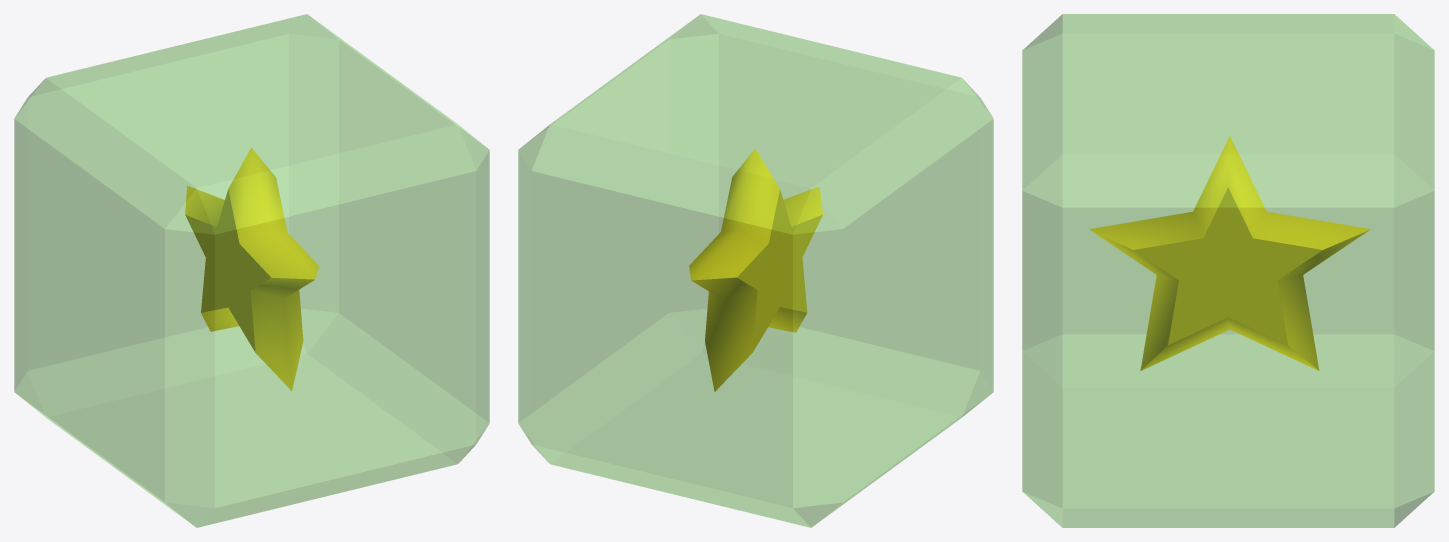
The model's file is haneru (1).fbx.
3 views of the same model, side by side, from view 1: azimuth 30°, elevation 25°; view 2: azimuth 150°, elevation 25°; view 3: azimuth 270°, elevation 25° (orthographic). The views are drawn at different scales.
Visible parts, largest first — view 1: pCube1, pasted__pCube2; view 2: pCube1, pasted__pCube2; view 3: pCube1, pasted__pCube2.
Boxes of the visible parts, bbox=[...] form: pCube1: bbox=[14, 14, 489, 527]; pasted__pCube2: bbox=[185, 148, 318, 390]; pCube1: bbox=[518, 14, 993, 527]; pasted__pCube2: bbox=[689, 149, 822, 391]; pCube1: bbox=[1022, 14, 1434, 527]; pasted__pCube2: bbox=[1089, 136, 1370, 370].
Bounding box in the file's own units: 3 × 3 × 3.
